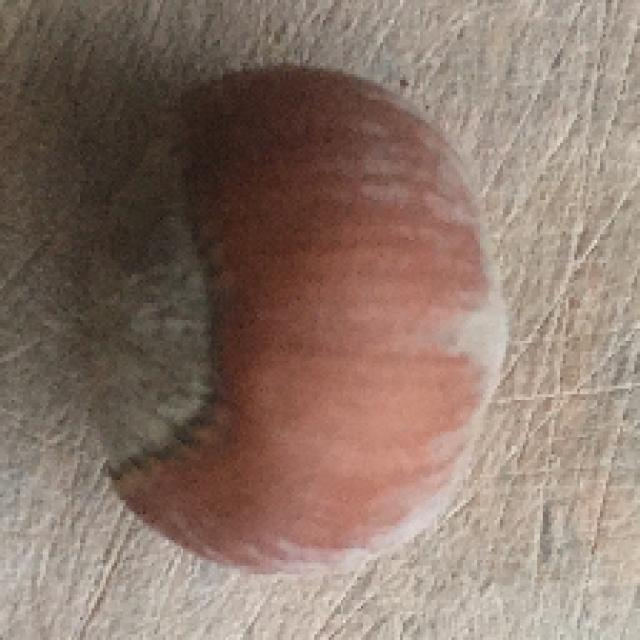QualityHazelnut: (83, 64, 518, 584)
